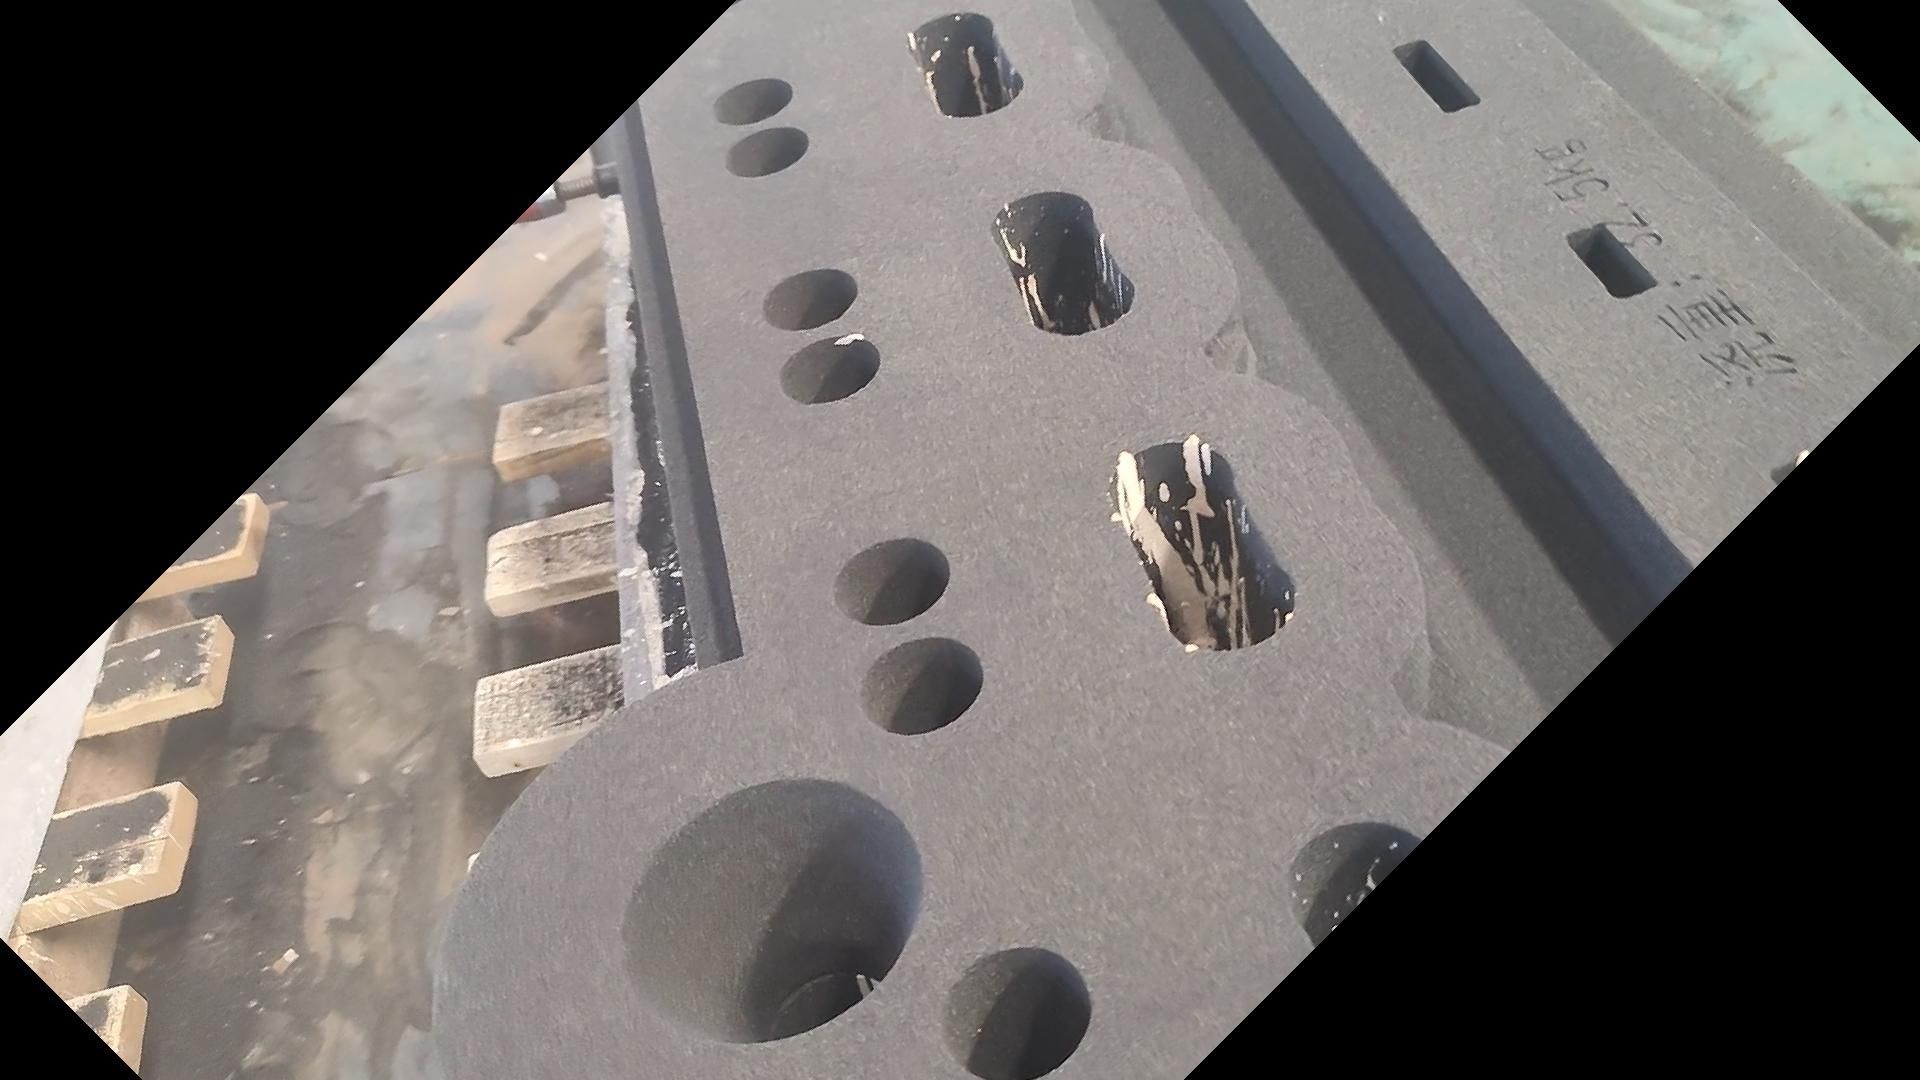pouring hole: (617, 778, 926, 1050)
